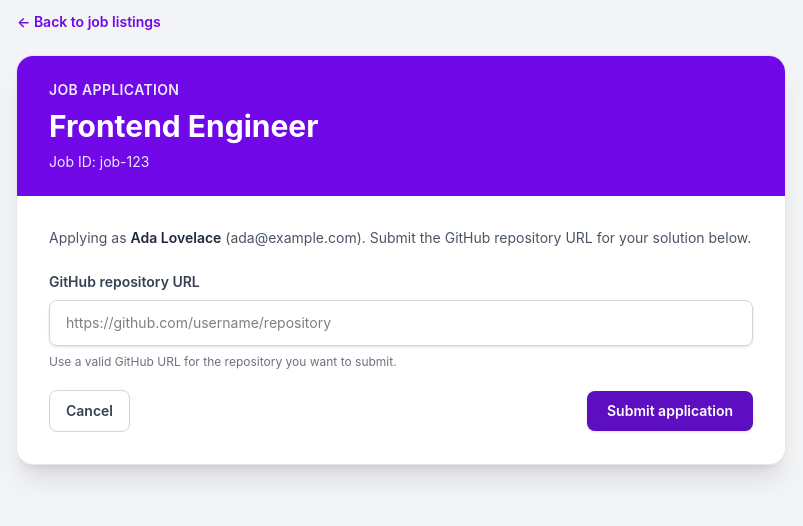
Scenario: JobApplicationPage › shows validation feedback for an invalid GitHub URL
The image size is (803, 526).
Step 1. Type "https://gitlab.com/user/repository" into the field labelled "GitHub repository URL" → [401, 323], box [49,300,753,346]
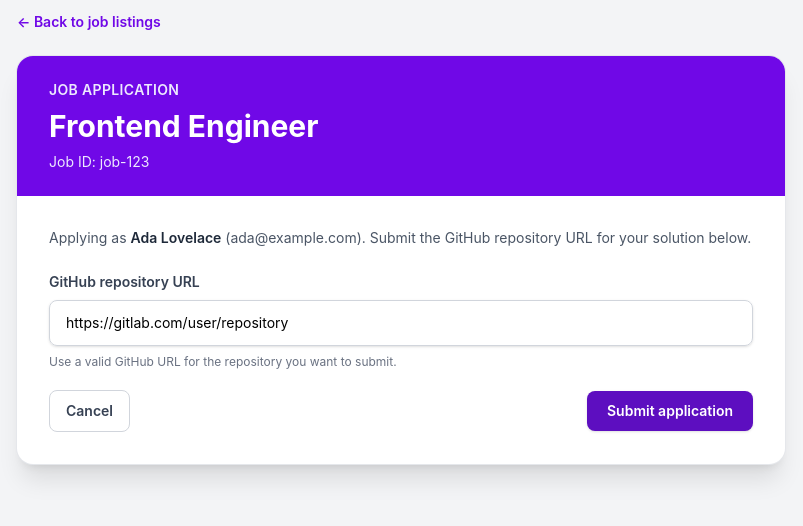
Step 2. Click the button "Submit application" → [670, 411], box [587,391,753,431]
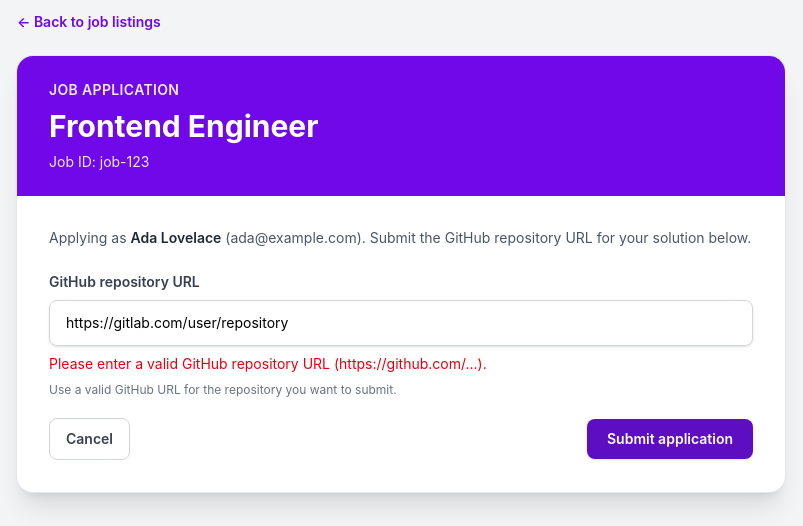
Check: the text "Please enter a valid GitHub repository URL (https://github.com/...)." is shown, box [49,355,487,372]
